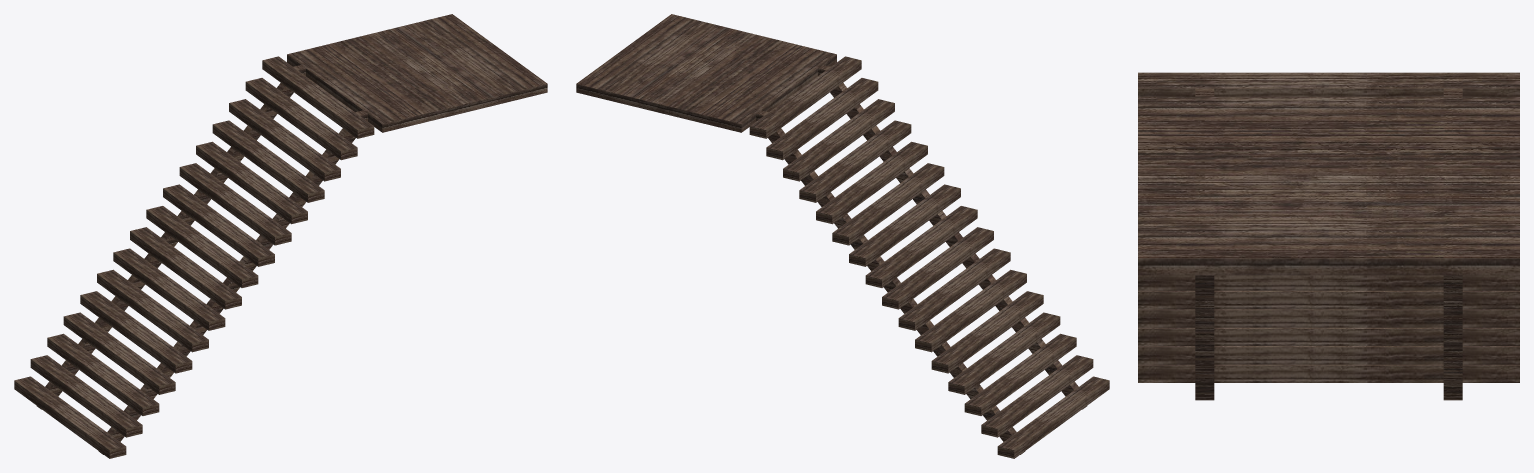
The model's file is ladderwood.obj.
3 renders of one model, left to right at view 1: azimuth 30°, elevation 25°; view 2: azimuth 150°, elevation 25°; view 3: azimuth 270°, elevation 25°, orthographic. The views are drawn at different scales.
Parts seen in each view (by area): view 1: Brush11, Brush18, Brush7, Brush9, Brush2, Brush5, Brush6, Brush17, Brush4, Brush8, Brush12, Brush16 (+7 smaller); view 2: Brush11, Brush18, Brush7, Brush9, Brush2, Brush5, Brush6, Brush17, Brush4, Brush8, Brush12, Brush16 (+7 smaller); view 3: Brush11, Brush12, Brush2, Brush6, Brush7, Brush4, Brush5, Brush3, Brush13, Brush14.
Part boxes in pixels (x1,y1,x2,y2): Brush11: (287,14,547,132); Brush18: (146,206,258,287); Brush7: (63,312,175,394); Brush9: (245,78,357,160); Brush2: (80,291,192,373); Brush5: (47,333,159,415); Brush6: (30,355,142,437); Brush17: (212,120,324,202); Brush4: (14,376,126,458); Brush8: (113,248,225,330); Brush12: (262,56,374,138); Brush16: (179,163,291,245); Brush11: (576,14,836,132); Brush18: (865,206,977,287); Brush7: (948,312,1060,394); Brush9: (766,78,878,160); Brush2: (931,291,1043,373); Brush5: (964,333,1076,415); Brush6: (981,355,1093,437); Brush17: (799,120,911,202); Brush4: (997,376,1109,458); Brush8: (898,248,1010,330); Brush12: (749,56,861,138); Brush16: (832,163,944,245); Brush11: (1138,96,1519,275); Brush12: (1138,72,1519,96); Brush2: (1138,290,1519,309); Brush6: (1138,346,1519,364); Brush7: (1138,309,1519,327); Brush4: (1138,364,1519,382); Brush5: (1138,327,1519,345); Brush3: (1138,275,1519,290); Brush13: (1195,88,1214,400); Brush14: (1443,88,1462,400).
Size of the model in its own units: 424 by 256 by 160.
